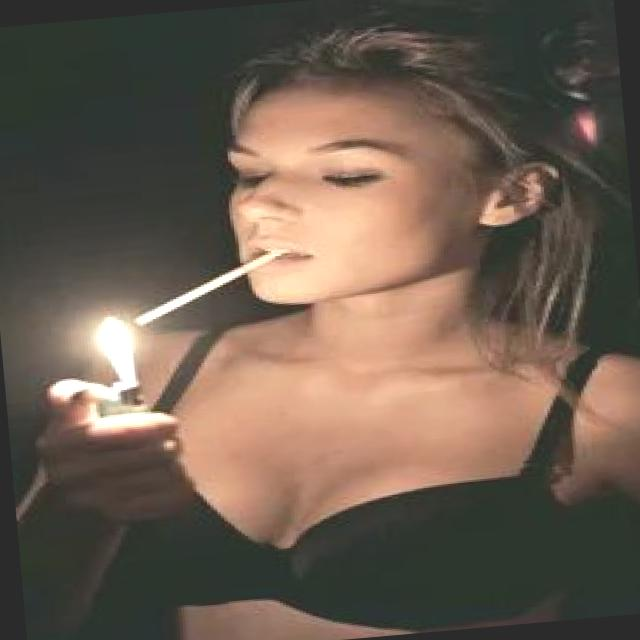cigarette: (121, 242, 299, 333)
